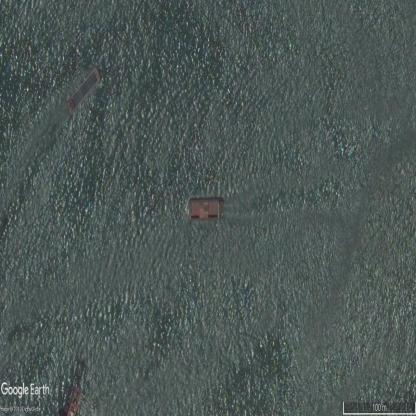ship: (67, 68, 101, 115), (189, 198, 223, 218)
